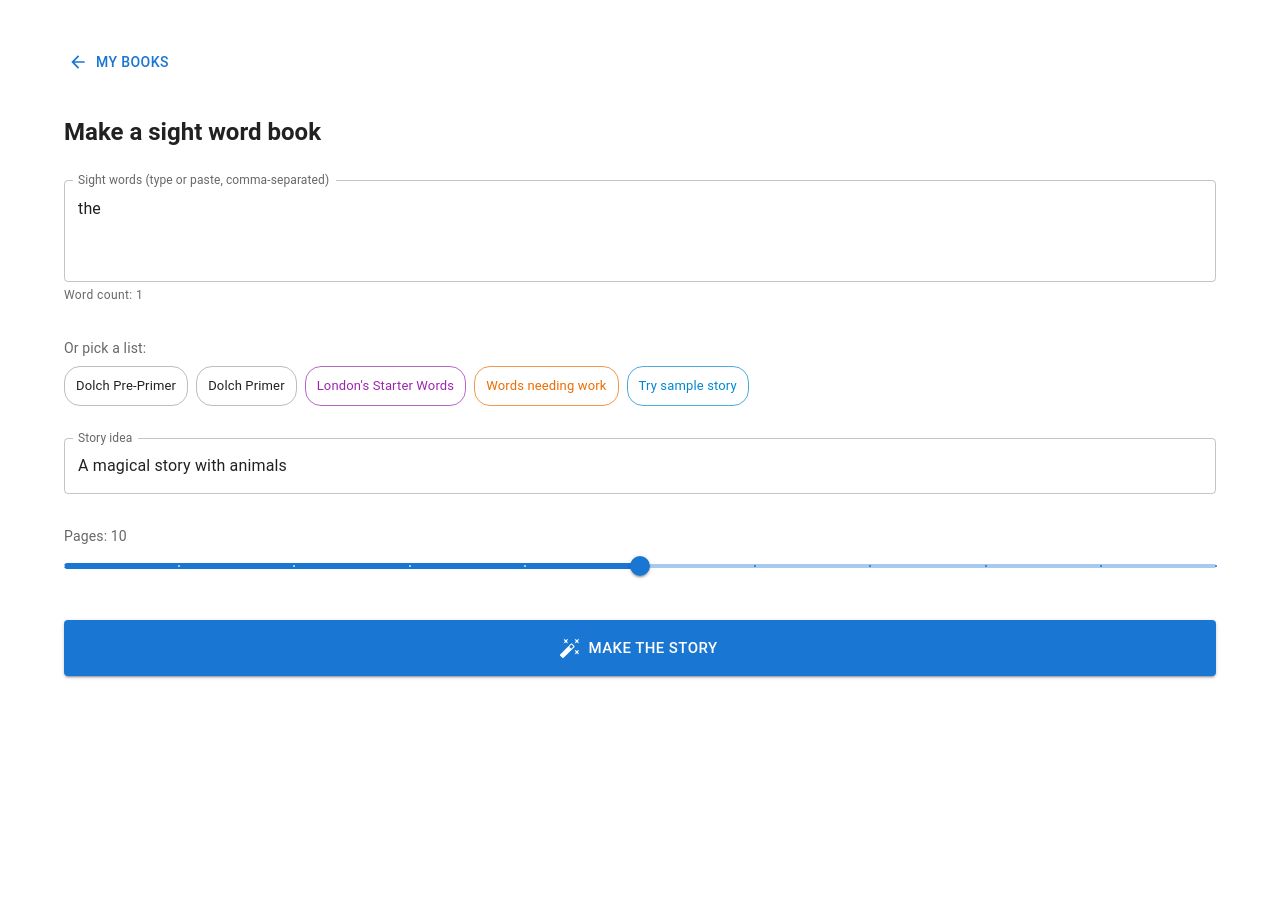
UX-117 — the screen shows the named failure › shows the honest line above a preview the server measured as too hard
Click the button "Make the story". click: (640, 648)
box: [64,620,1216,676]
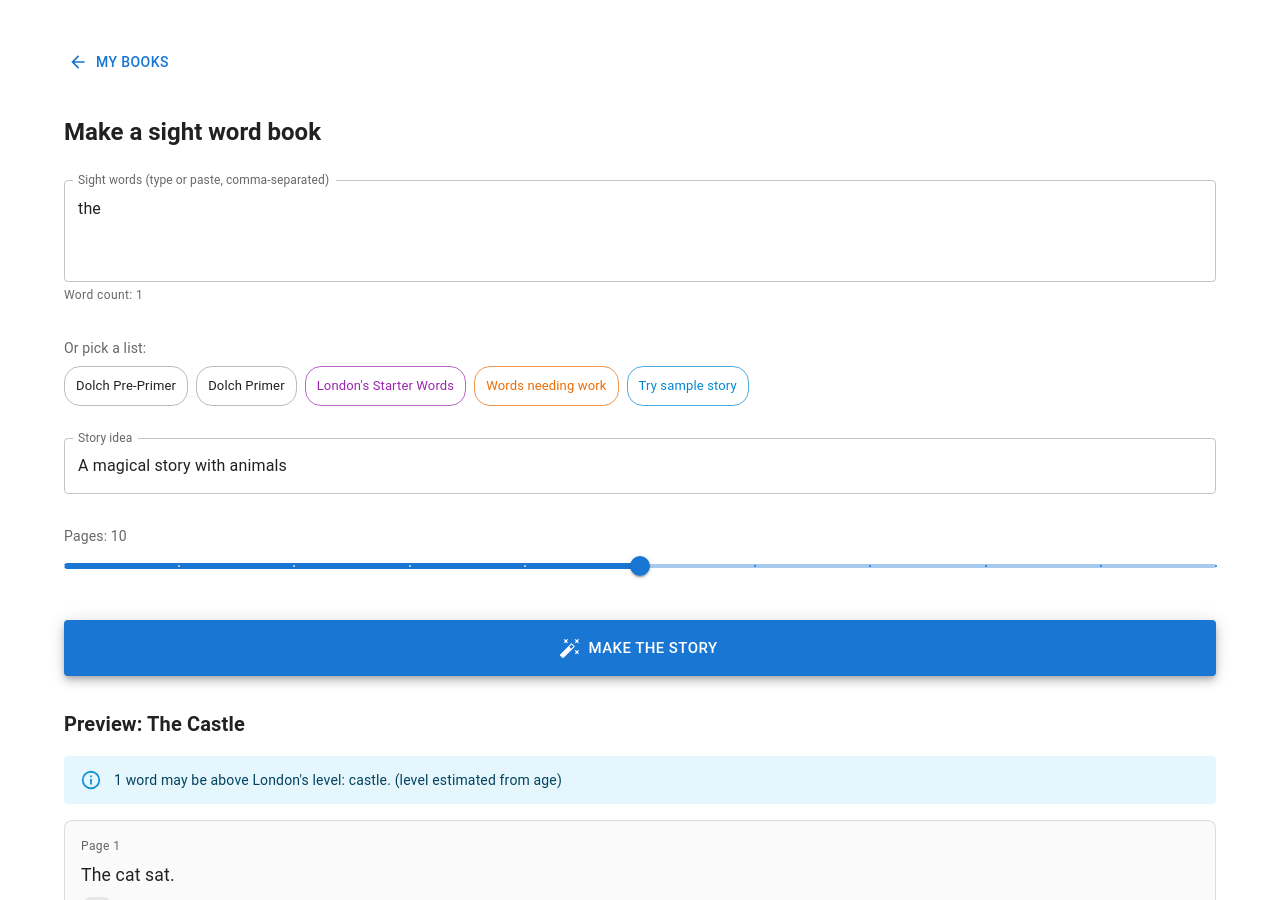
Expected: the text "1 word may be above London.s level: castle." is shown, [114,772,562,788]
